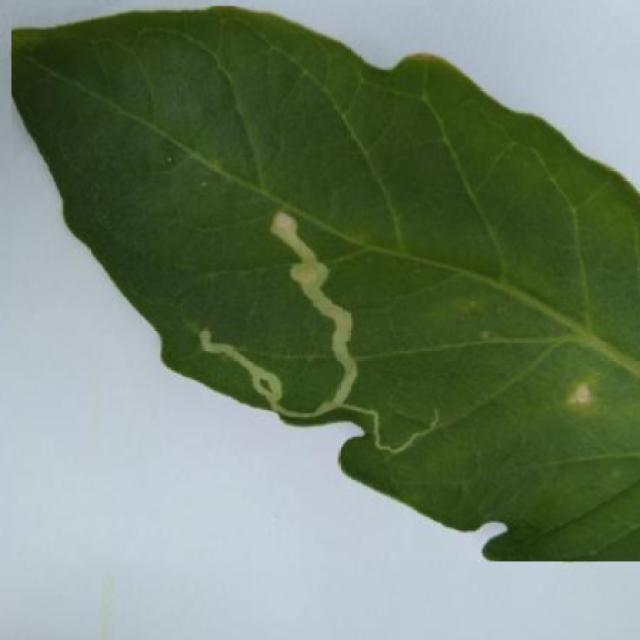Leaf Miner: (11, 6, 640, 561)
